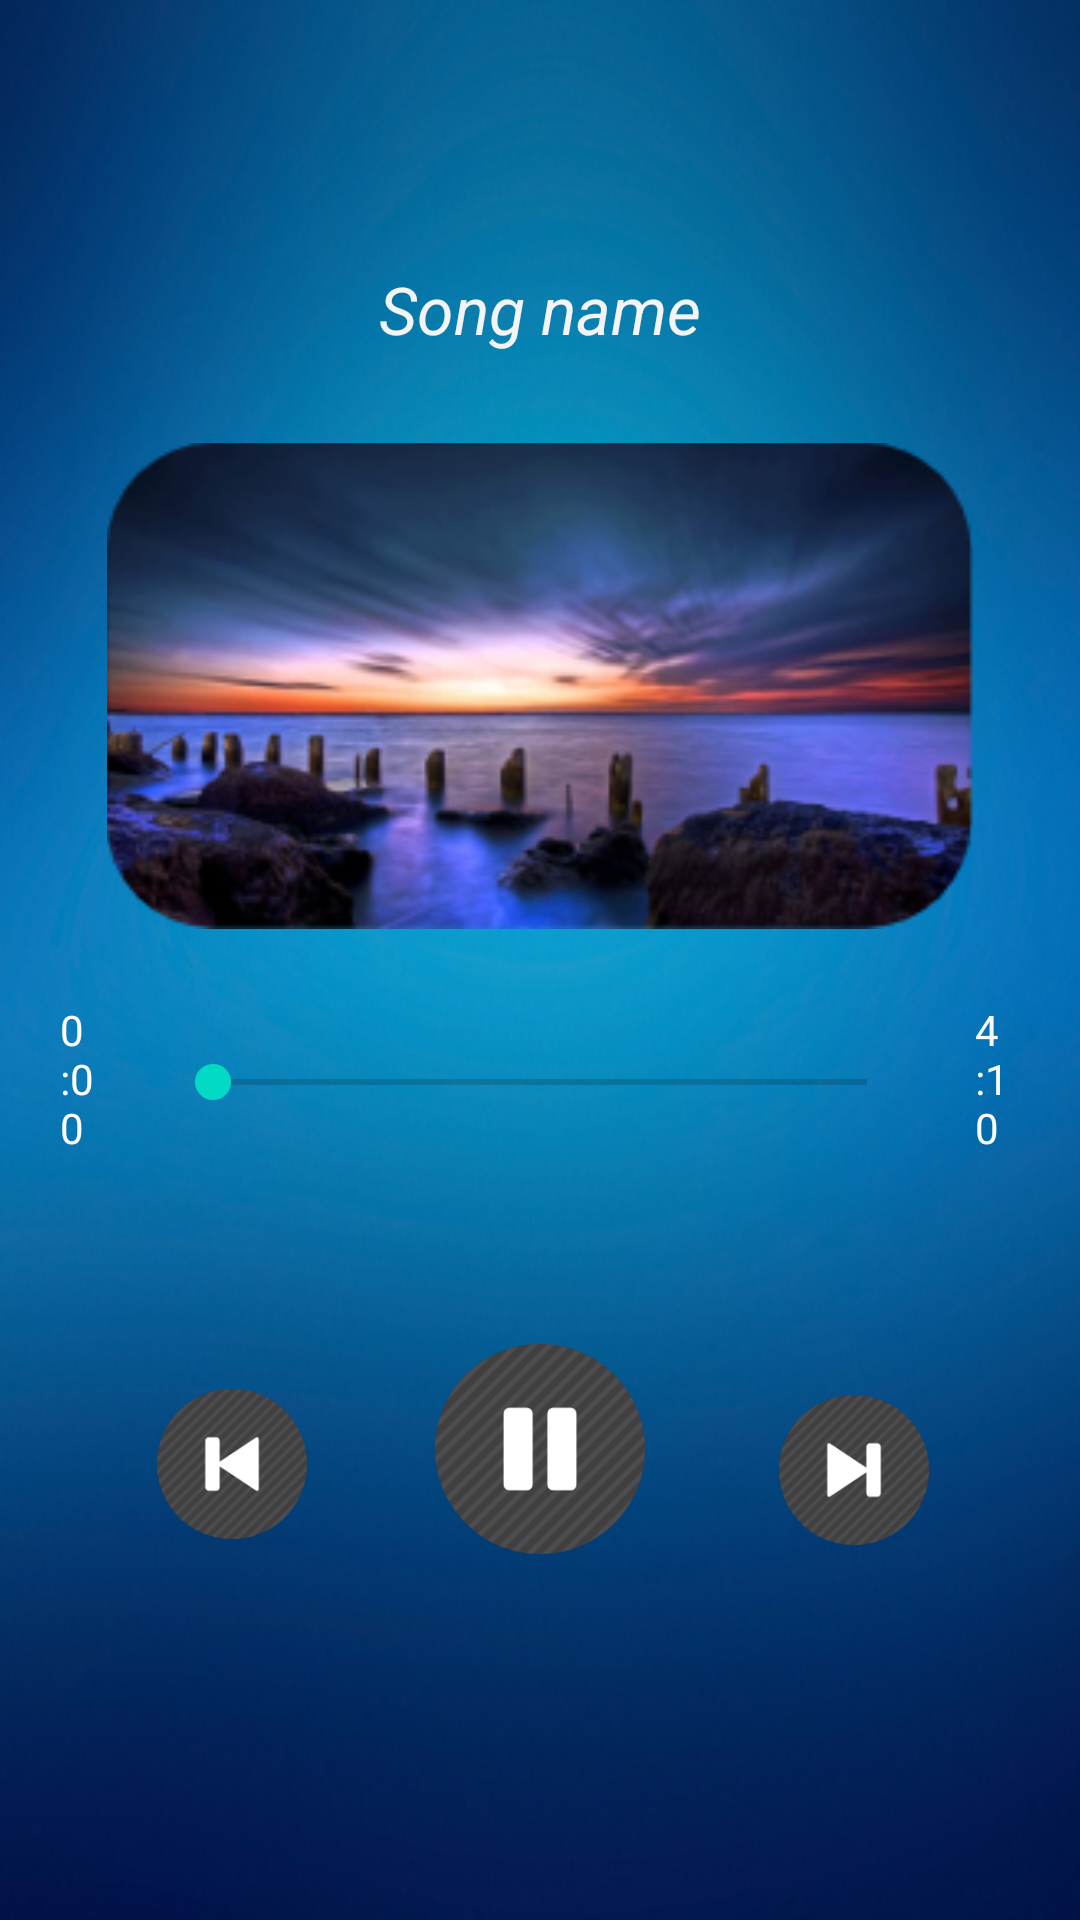

Icons on this 1080px x 1920px Android screen, each with the point to tap as (x,y):
forward: (854,1470)
pause: (540,1449)
previous: (232,1464)
